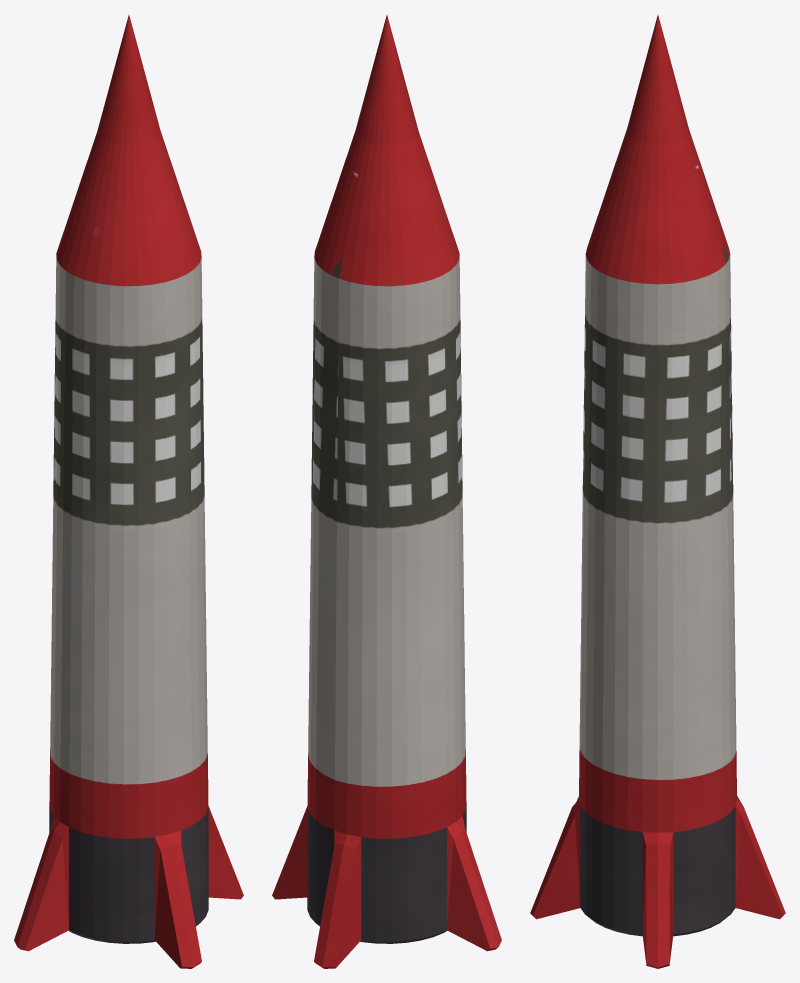
The model's file is rocket.fbx.
The picture shows the model from 3 angles, left to right: view 1: azimuth 30°, elevation 25°; view 2: azimuth 150°, elevation 25°; view 3: azimuth 270°, elevation 25°; orthographic projection.
Visible parts, largest first — view 1: rocket; view 2: rocket; view 3: rocket.
Boxes of the visible parts, x1,y1,x2,y2 form: rocket: (14, 15, 243, 968); rocket: (272, 15, 501, 968); rocket: (530, 15, 785, 968).
Size of the model in its own units: 0.456 by 1.78 by 0.456.
